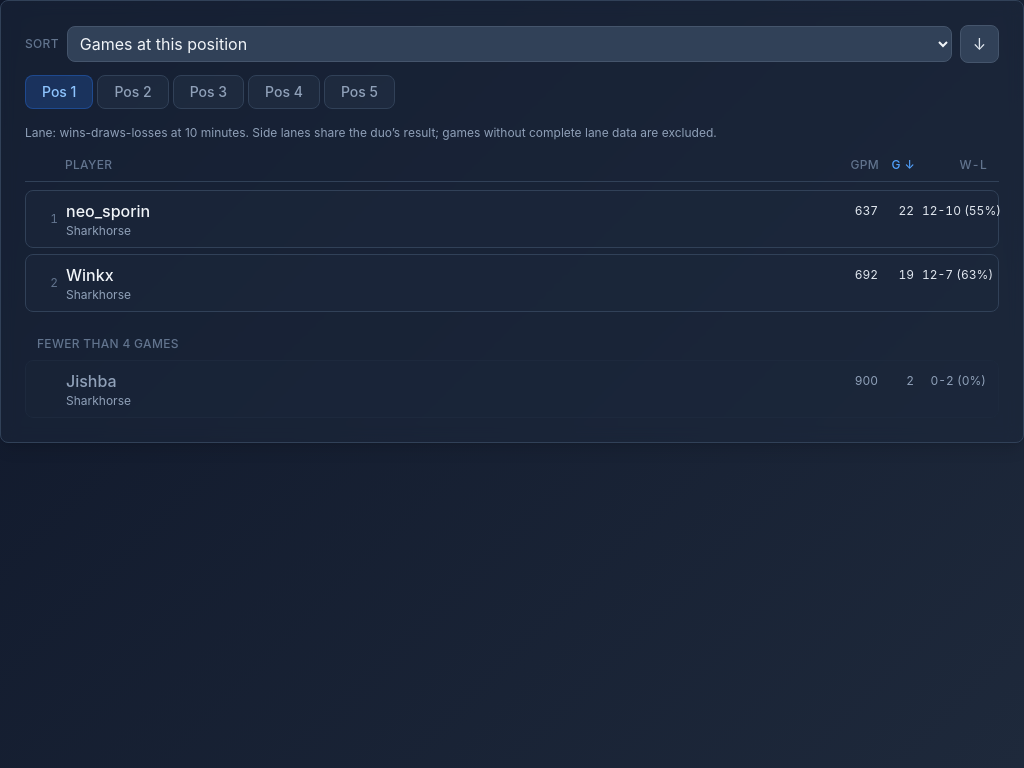
Test: DivisionPlayers › reveals the columns a phone has no room for when a row is opened
This screenshot has width=1024, height=768.
Check: the text "neo_sporin" is shown, box [66, 201, 150, 221]
Check: the text "XP@10" is not shown
Click the button "1 neo_sporin Sharkhorse 22 12-10 (55%) 637": (108, 211) [26, 191, 998, 247]
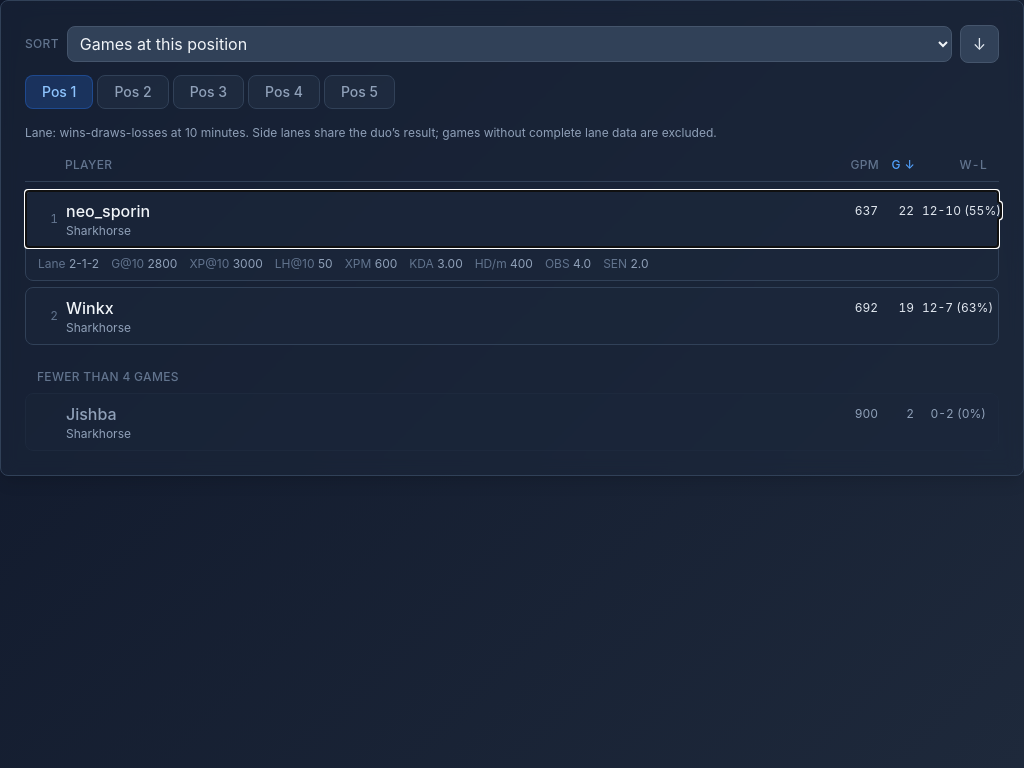
Check: the text "XP@10" is shown, box [189, 256, 229, 271]
Check: the text "KDA" is shown, box [409, 256, 434, 271]
Check: the text "SEN" is shown, box [603, 256, 627, 271]
